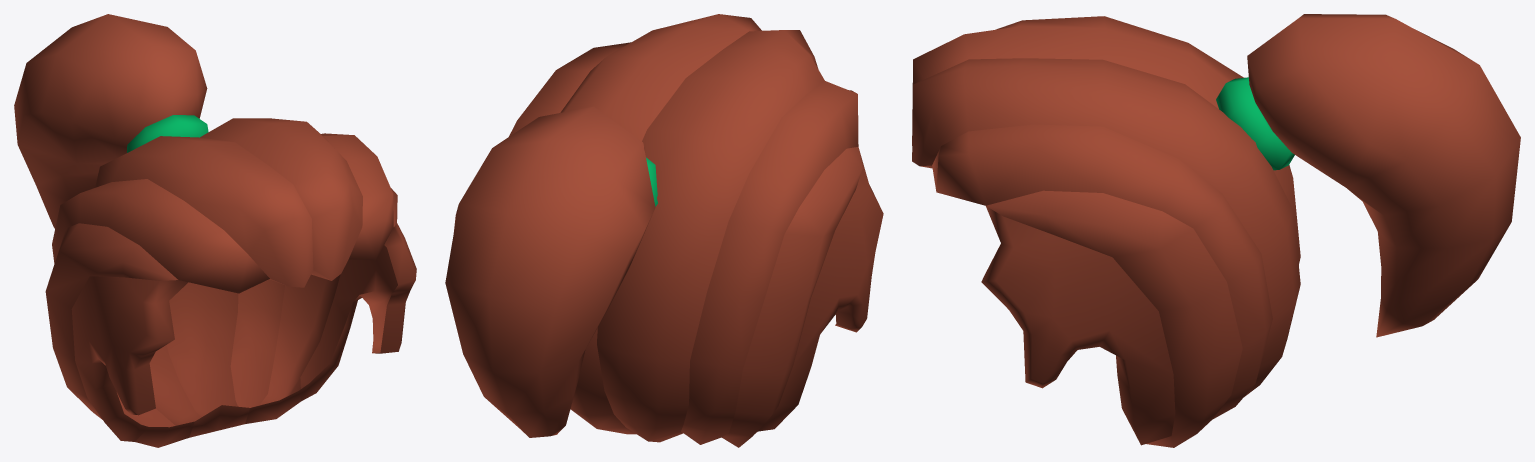
File: Hair_Brown_11.fbx
3 views of the same model, side by side, from view 1: azimuth 30°, elevation 25°; view 2: azimuth 150°, elevation 25°; view 3: azimuth 270°, elevation 25° (orthographic). The views are drawn at different scales.
Parts seen in each view (by area): view 1: Hair_Brown_11; view 2: Hair_Brown_11; view 3: Hair_Brown_11.
Part boxes in pixels (left/top/right/bottom): Hair_Brown_11: left=14, top=14, right=416, bottom=447; Hair_Brown_11: left=445, top=14, right=883, bottom=447; Hair_Brown_11: left=912, top=14, right=1520, bottom=447.
Bounding box in the file's own units: 54.98 × 59.13 × 83.25.
